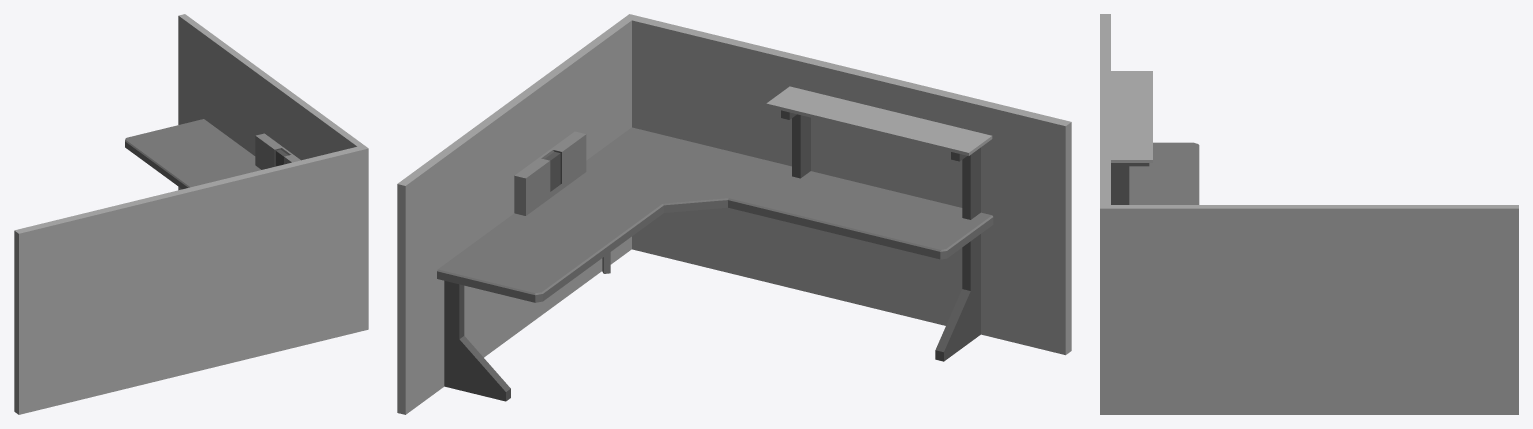
File: cubicle.FBX
3 renders of one model, left to right at view 1: azimuth 30°, elevation 25°; view 2: azimuth 150°, elevation 25°; view 3: azimuth 270°, elevation 25°, orthographic. The views are drawn at different scales.
Parts seen in each view (by area): view 1: cubicle; view 2: cubicle; view 3: cubicle.
Part boxes in pixels (x1,y1,x2,y2): cubicle: (14,14,368,414); cubicle: (397,14,1071,414); cubicle: (1100,14,1518,414).
Bounding box in the file's own units: 147 × 72.5 × 133.
